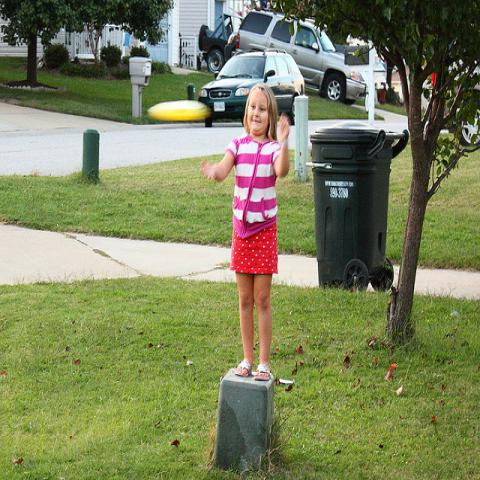car: (227, 9, 367, 103), (202, 51, 308, 130), (201, 12, 242, 70), (345, 35, 370, 78)
